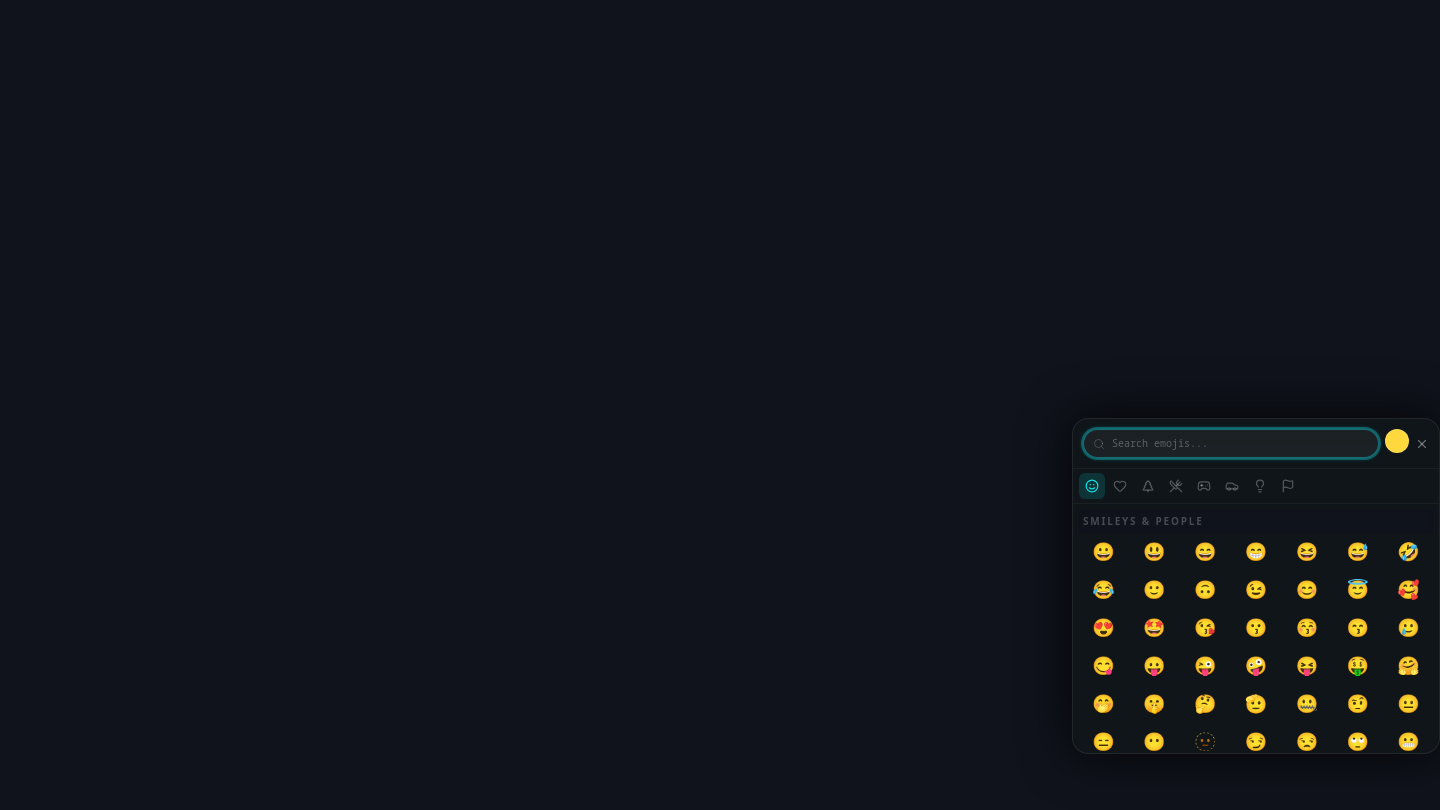
Scenario: EmojiPicker › still works when localStorage is blocked
Click the button "😀": (1103,551) [1079,533,1128,569]
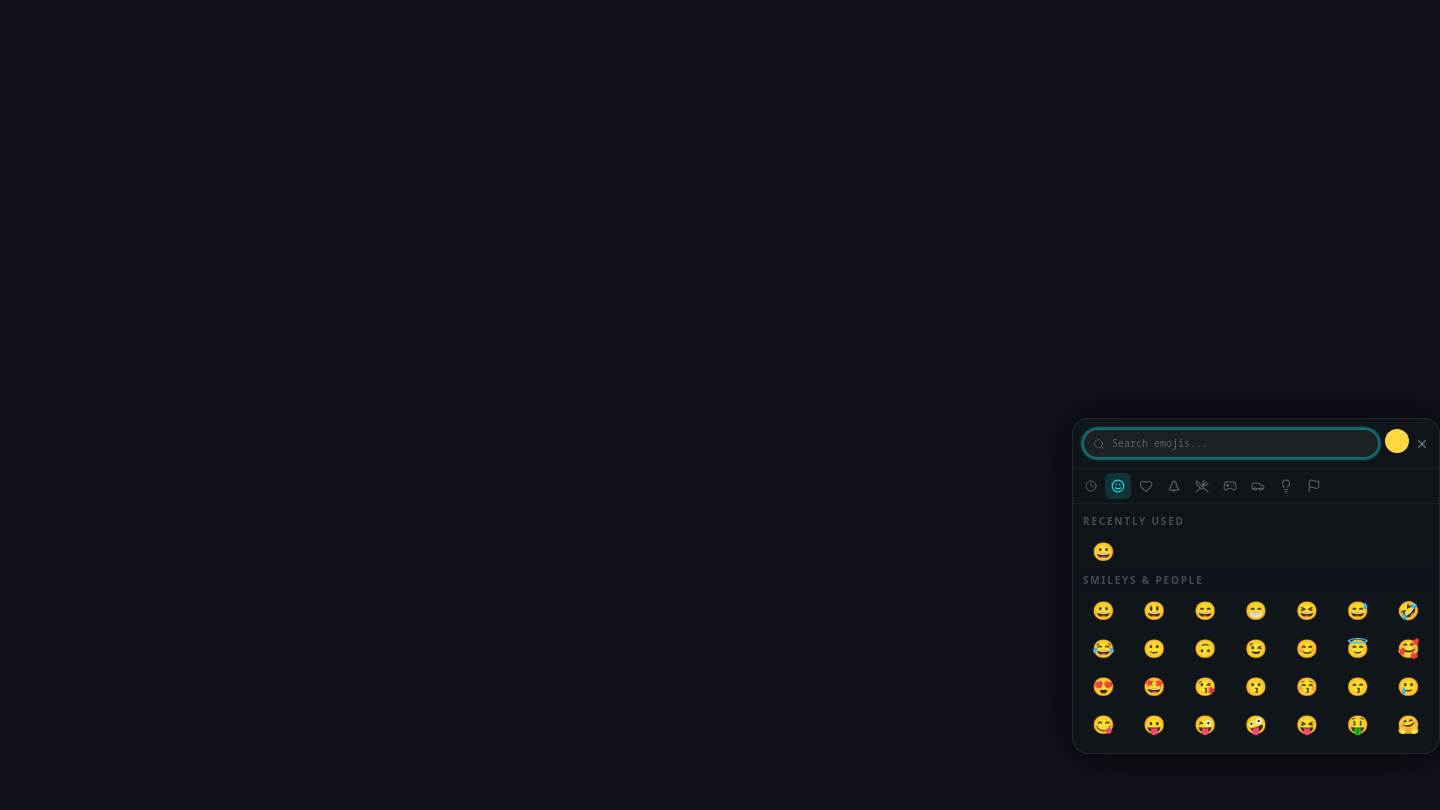
Check: the text "RECENTLY USED" is shown, box [1083,514,1185,528]
